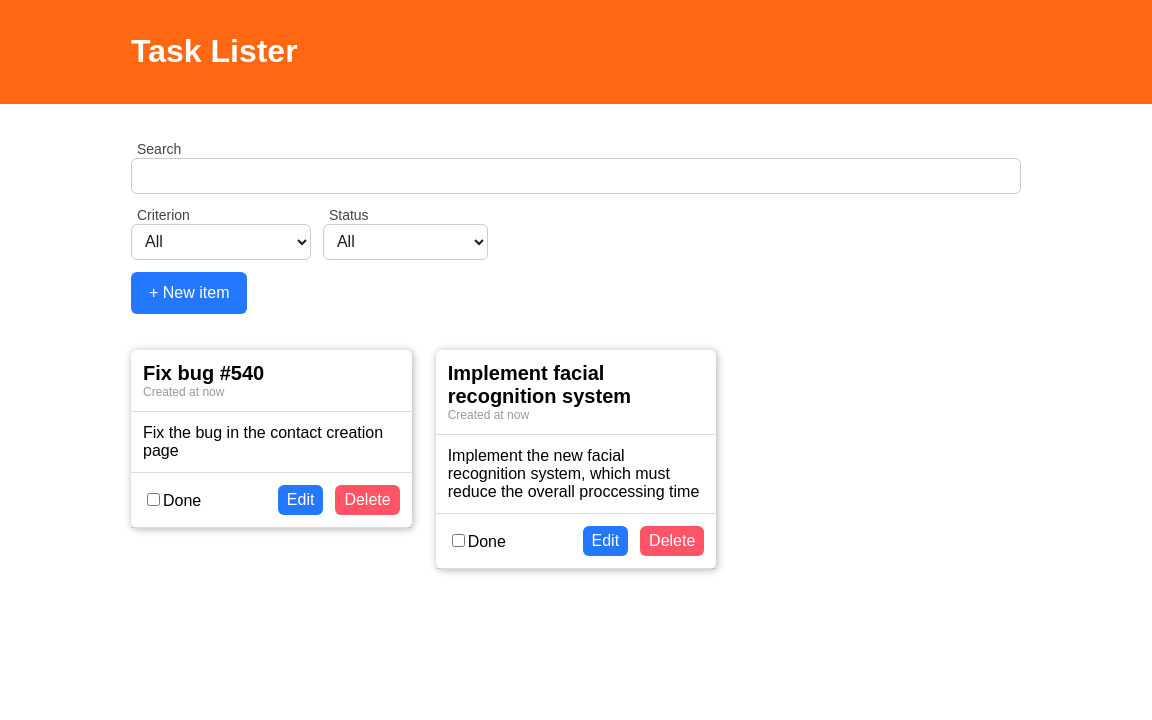
App › Filters cards by title
Type "bug" into the field labelled "Search".
click(576, 176); type("bug")  # box [131,158,1021,194]
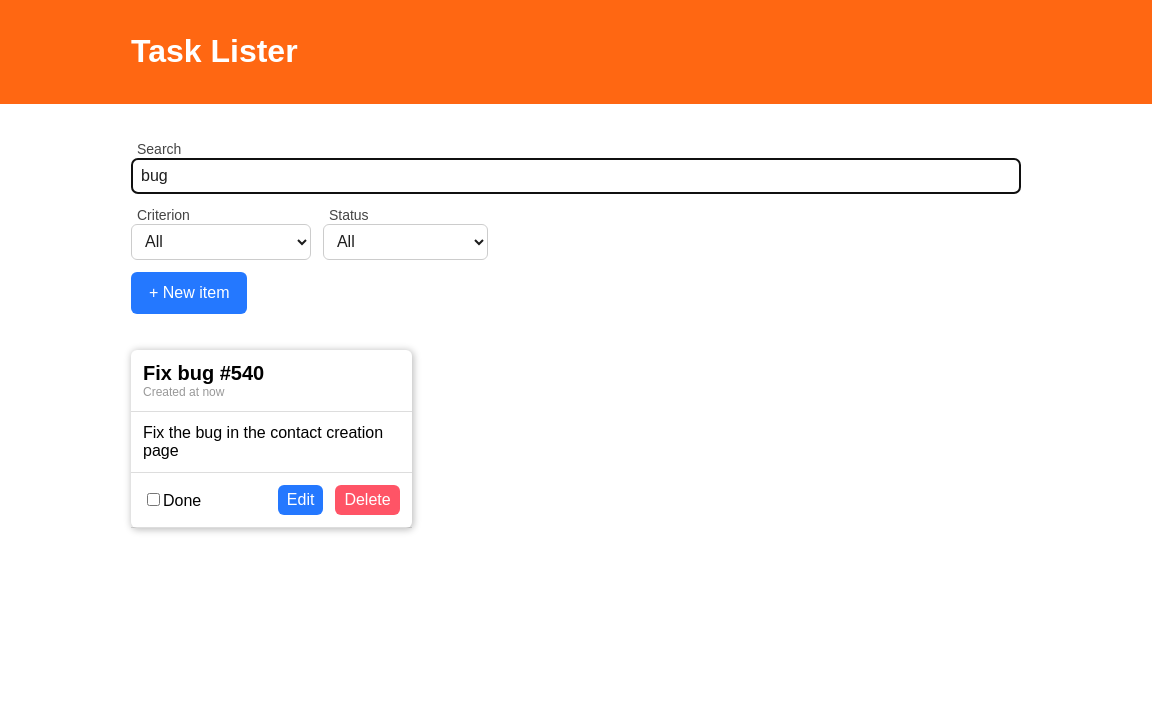
Expected: the text "Fix bug #540" is shown, [143,362,264,384]
Expected: the text "Implement facial recognition system" is gone
